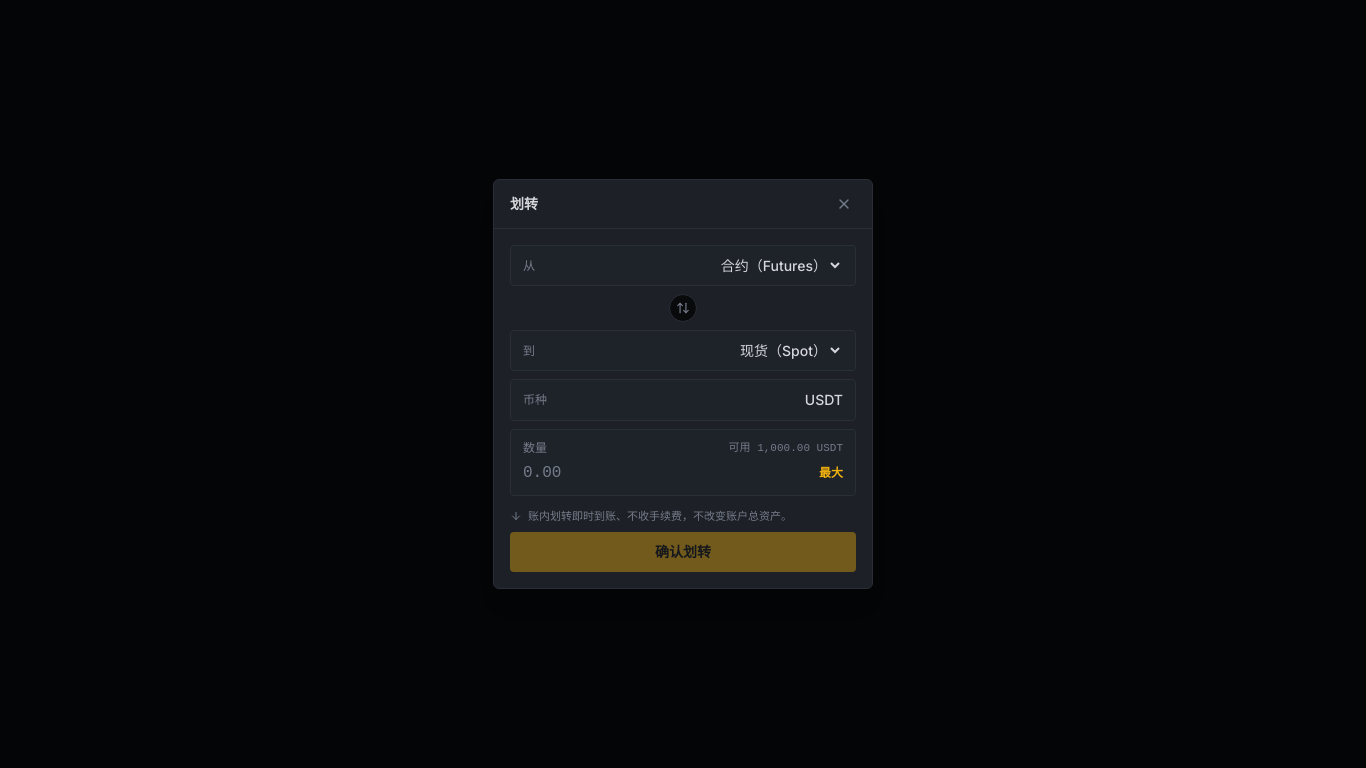
Test: TransferDialog › 「最大」一键填满并可提交——不因浮点尾差被判超额
Later steps or results of the test are not shown.
Step 1. Click the button with test id "transfer-max" → (831, 472), box x1=819 y1=464 x2=843 y2=480
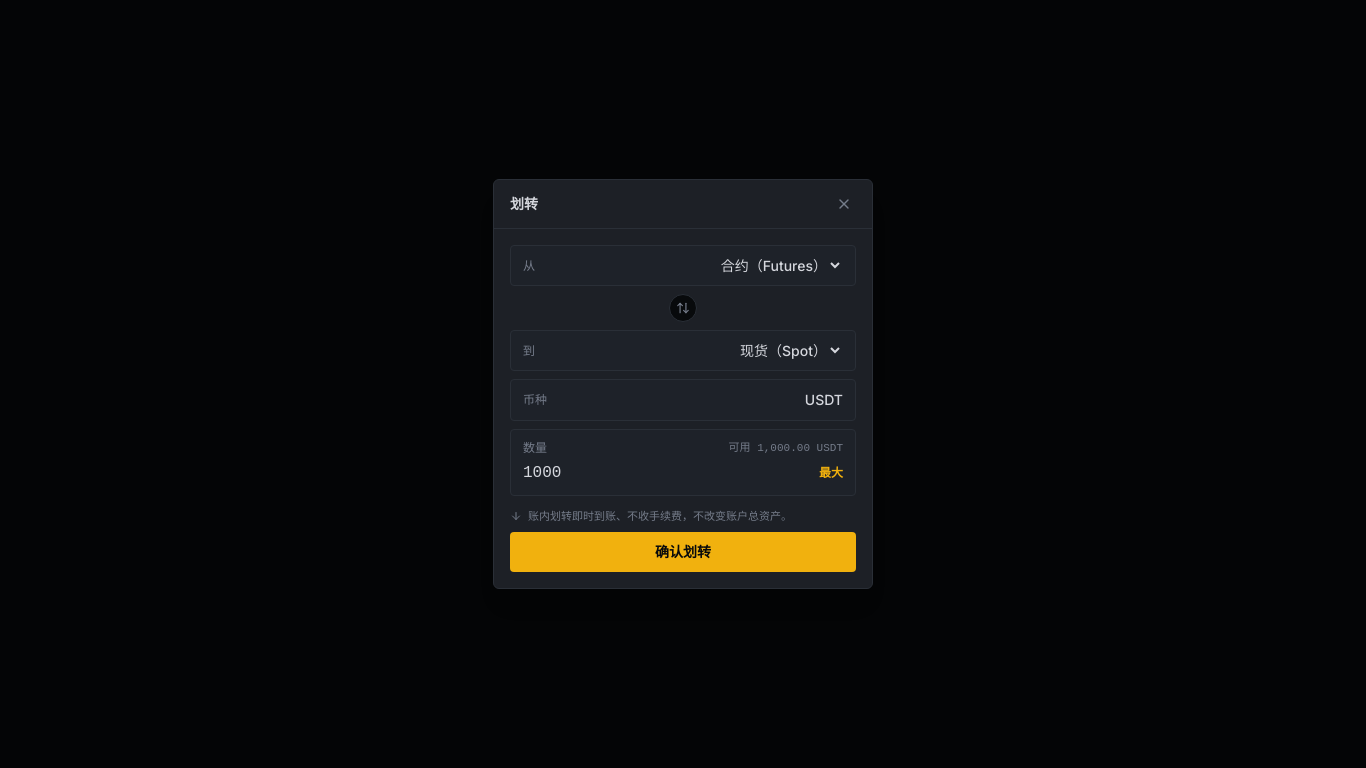
Now the number field with test id "transfer-amount" holds "1000", box x1=523 y1=460 x2=811 y2=484
